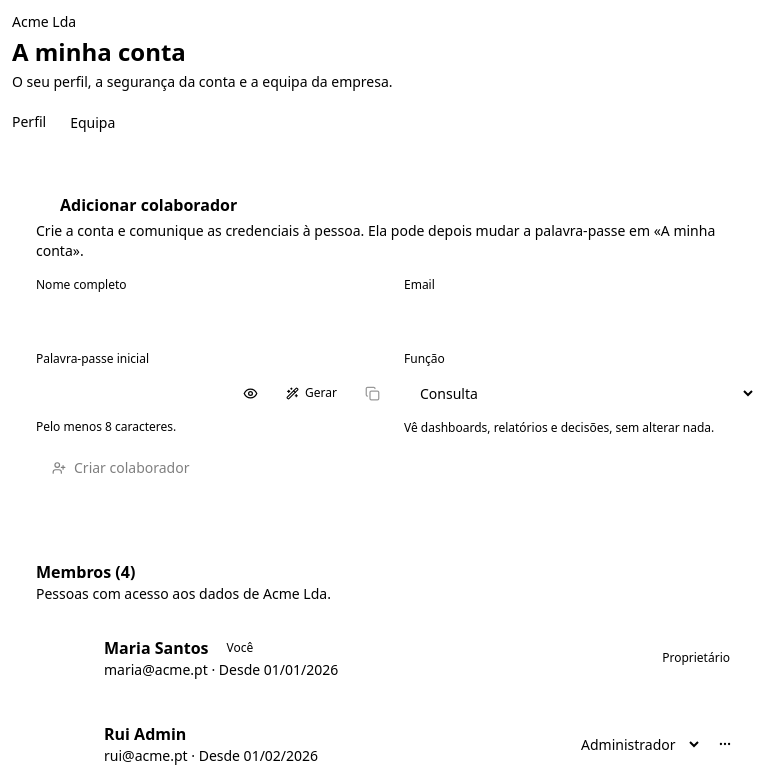
Test case: Team — adding a colleague › defaults to the least access (Consulta) and explains each role
Expected: the text "Vê dashboards, relatórios e decisões, sem alterar nada." is shown, [404,420,756,436]
Select "Gestor" in the dropdown labelled "Função" at (580, 394), box [404,373,756,414]
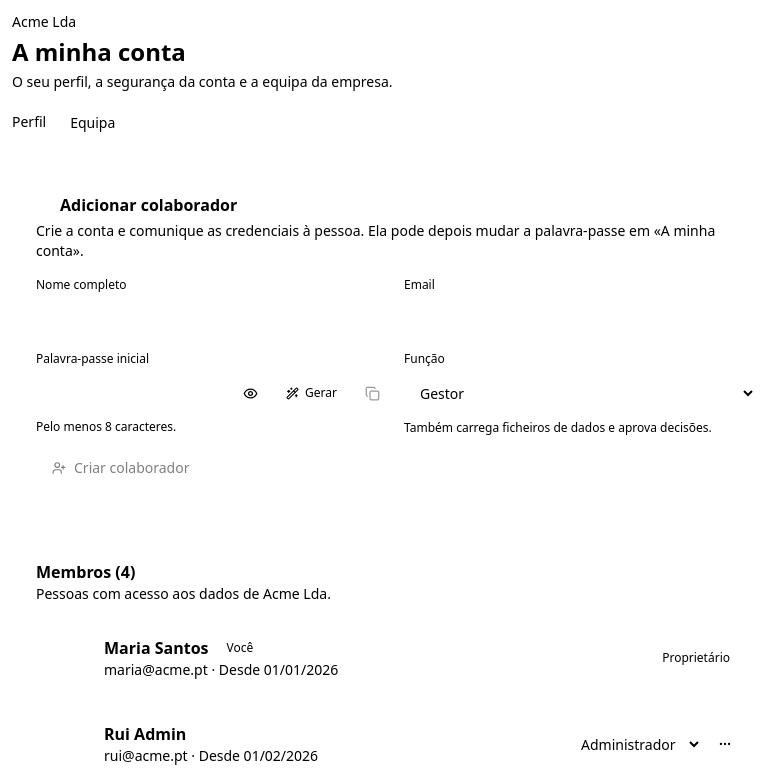
Expected: the text "Também carrega ficheiros de dados e aprova decisões." is shown, [404,420,756,436]
